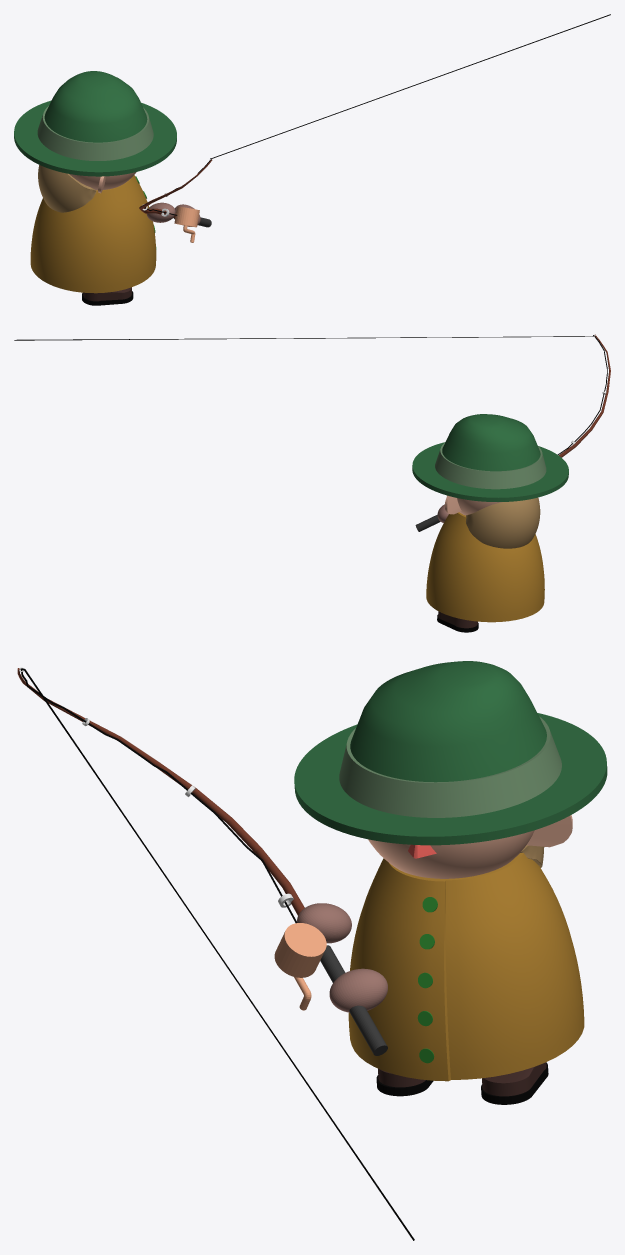
The model's file is RIBAK_RRR2 (1).fbx.
The picture shows the model from 3 angles, top to bottom: view 1: azimuth 30°, elevation 25°; view 2: azimuth 150°, elevation 25°; view 3: azimuth 270°, elevation 25°; orthographic projection. The views are drawn at different scales.
Parts seen in each view (by area): view 1: Цилиндр.005, Сфера, Окружность, Цилиндр.011, Цилиндр.012, Сфера.002, Цилиндр; view 2: Цилиндр.005, Сфера, Окружность, Цилиндр.012, Цилиндр.011, Сфера.002, Цилиндр; view 3: Цилиндр.005, Сфера, Цилиндр.011, Сфера.002, Цилиндр, Цилиндр.012, Сфера.003, Сфера.001, Цилиндр.004.
Boxes of the visible parts, bbox=[...] form: Цилиндр.005: bbox=[14, 71, 176, 176]; Сфера: bbox=[30, 175, 156, 293]; Окружность: bbox=[38, 165, 96, 212]; Цилиндр.011: bbox=[139, 159, 212, 242]; Цилиндр.012: bbox=[144, 14, 610, 215]; Сфера.002: bbox=[69, 172, 136, 193]; Цилиндр: bbox=[82, 287, 133, 305]; Цилиндр.005: bbox=[412, 414, 568, 501]; Сфера: bbox=[426, 512, 544, 622]; Окружность: bbox=[466, 497, 540, 548]; Цилиндр.012: bbox=[14, 335, 607, 454]; Цилиндр.011: bbox=[415, 334, 610, 531]; Сфера.002: bbox=[445, 495, 501, 515]; Цилиндр: bbox=[437, 611, 478, 632]; Цилиндр.005: bbox=[294, 661, 607, 845]; Сфера: bbox=[348, 853, 584, 1081]; Цилиндр.011: bbox=[17, 667, 387, 1055]; Сфера.002: bbox=[368, 815, 572, 878]; Цилиндр: bbox=[376, 1062, 548, 1104]; Цилиндр.012: bbox=[20, 668, 414, 1240]; Сфера.003: bbox=[329, 968, 387, 1012]; Сфера.001: bbox=[297, 903, 351, 943]; Цилиндр.004: bbox=[417, 897, 437, 1063].
Bounding box in the file's own units: 700 × 248 × 323.
